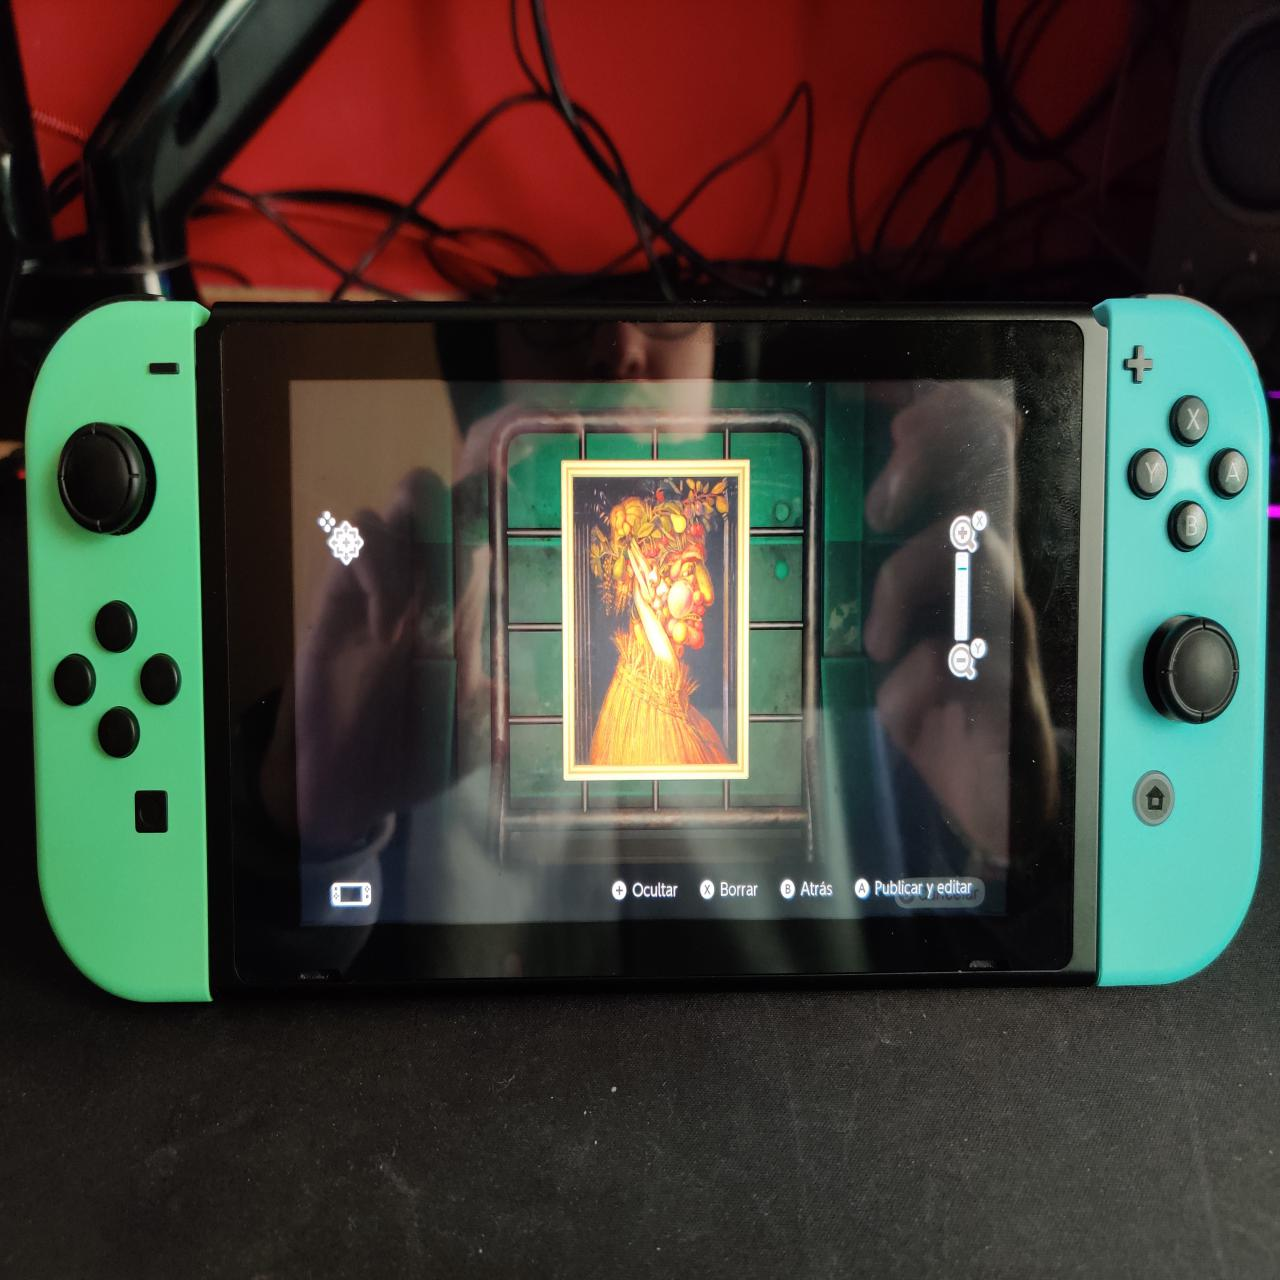SummerFake: (577, 477, 738, 762)
